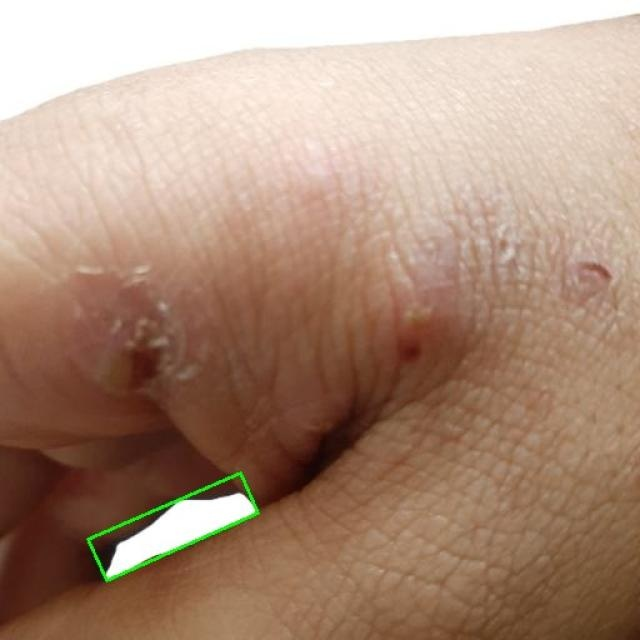Scabies: (88, 473, 258, 581)
